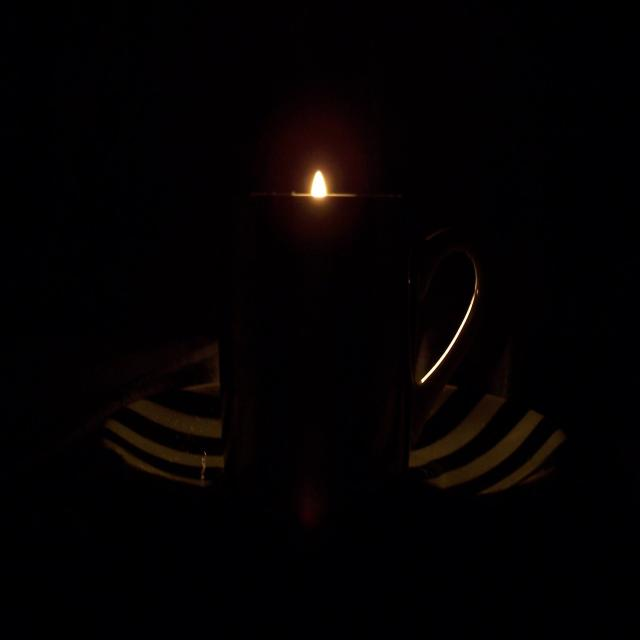Cup: (88, 170, 607, 622)
